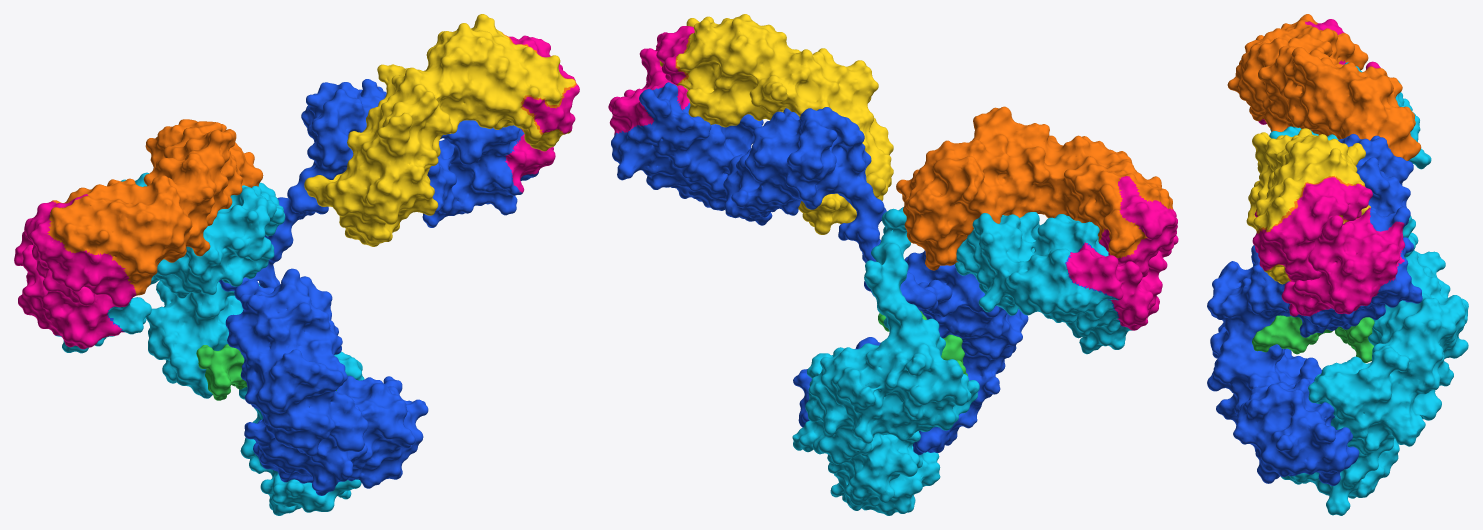
The model's file is igg-antibody.glb.
3 views of the same model, side by side, from view 1: azimuth 30°, elevation 25°; view 2: azimuth 150°, elevation 25°; view 3: azimuth 270°, elevation 25° (orthographic). The views are drawn at different scales.
Parts seen in each view (by area): view 1: IgG_1IGT; view 2: IgG_1IGT; view 3: IgG_1IGT.
Boxes of the visible parts, left/top/right/bottom form: IgG_1IGT: left=14, top=14, right=579, bottom=515; IgG_1IGT: left=608, top=14, right=1178, bottom=515; IgG_1IGT: left=1207, top=14, right=1468, bottom=515.
Bounding box in the file's own units: 1.69 × 1.35 × 0.7347.
